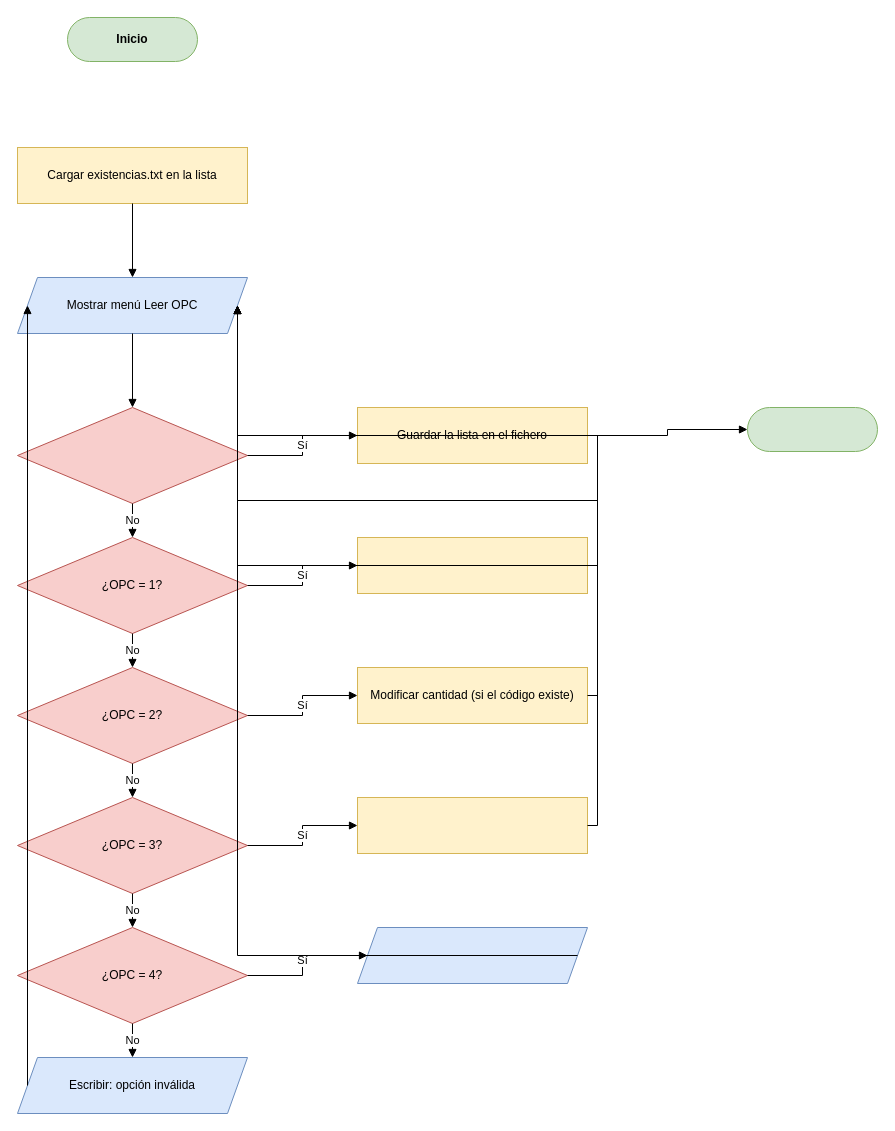
The diagram is 895 pixels wide and 1131 high, and some of its shapes have lost their labels. Here are the shapes that lost their labels. From the top down, the centre of each, then its label:
At [812,429]: "Fin".
At [132,455]: "¿OPC = 0?".
At [472,565]: "Insertar registro (si el código no existe)".
At [472,825]: "Eliminar registro (si el código existe)".
At [472,955]: "Listar registros".
